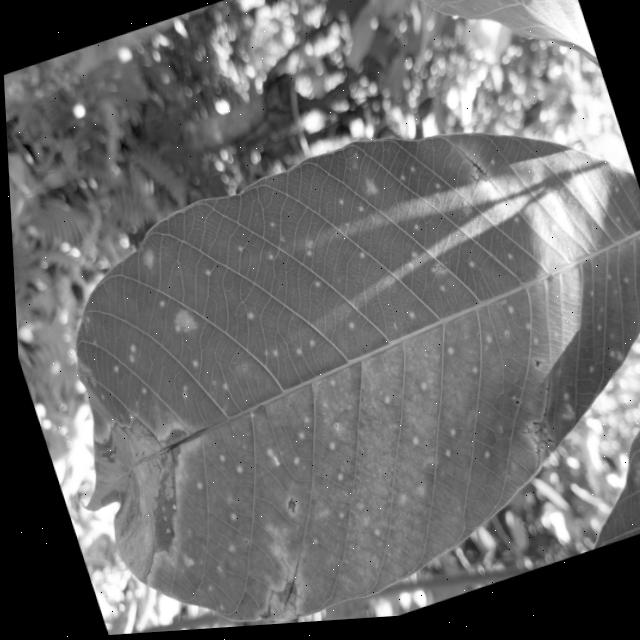Colletotrichum: (433, 270, 440, 277), (509, 407, 513, 412)
Corynespora: (504, 381, 569, 477), (453, 145, 499, 212), (277, 500, 292, 519)
Leaf-Blight: (53, 404, 219, 601), (245, 584, 297, 628)
